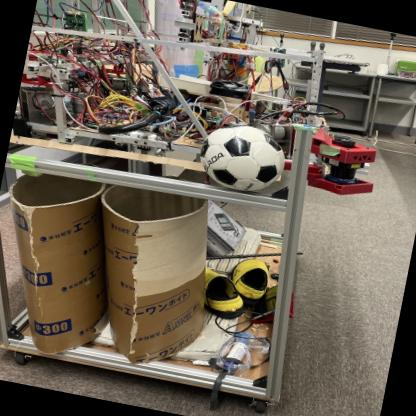ball: (193, 116, 292, 200)
